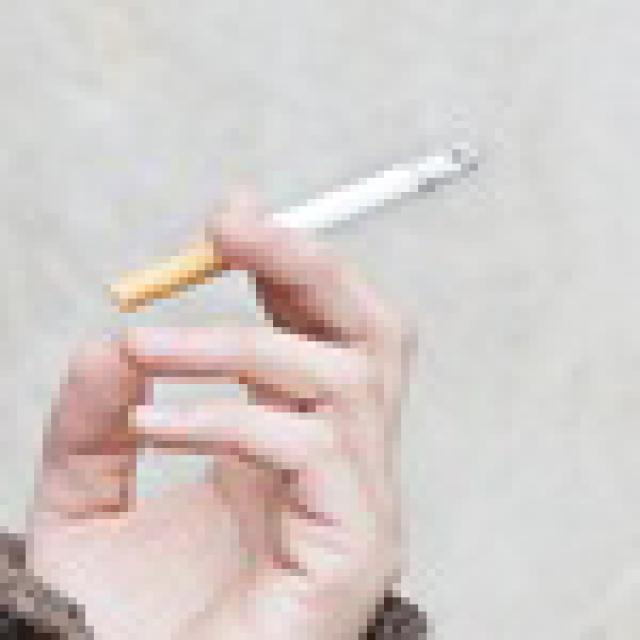smoking: (107, 141, 480, 310)
